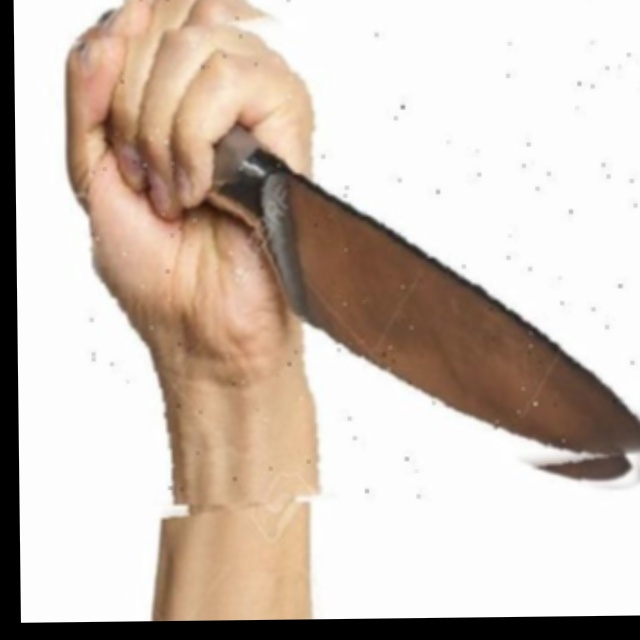Sharp-Object: (87, 0, 640, 507)
